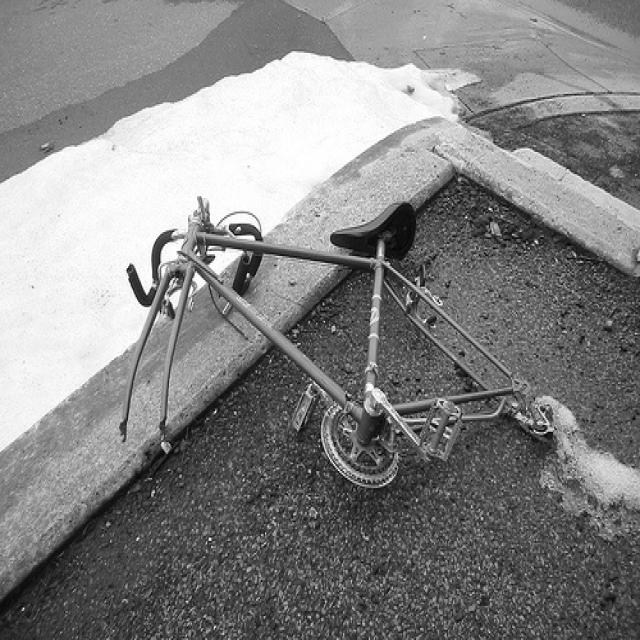bicycle: (118, 194, 556, 492)
